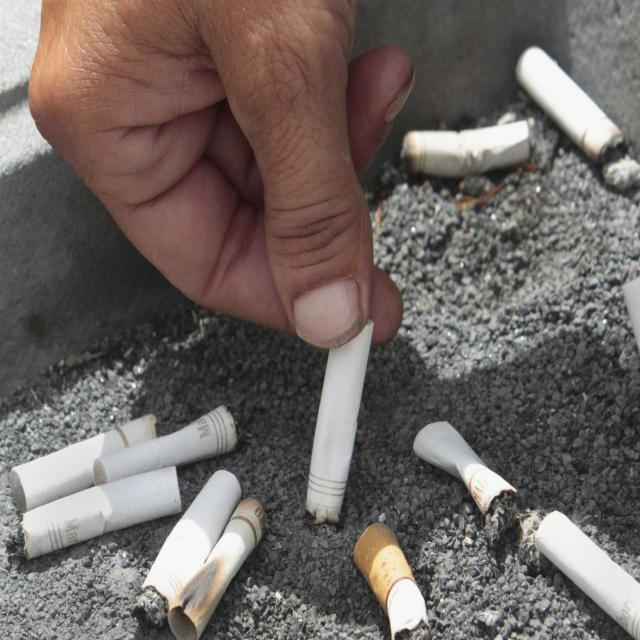Smooking: (298, 291, 382, 528), (531, 485, 640, 639), (520, 33, 630, 185), (416, 411, 514, 523), (351, 508, 434, 640), (402, 123, 534, 183)
